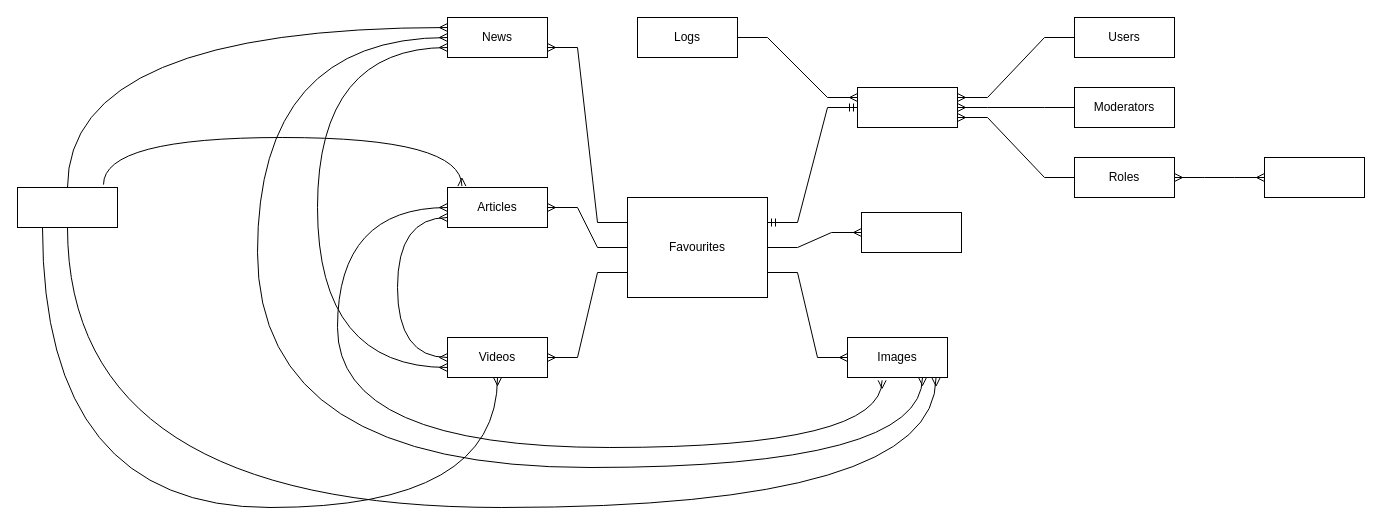
The diagram is 1382 pixels wide and 525 high, and some of its shapes have lost their labels. The shapes that lost their labels are listed below. From the top down, each one's centre as x and y in pixels, then its label:
At point (907, 107): "Accounts".
At point (1314, 177): "Permissions".
At point (67, 207): "Categories".
At point (911, 232): "Calculators".
